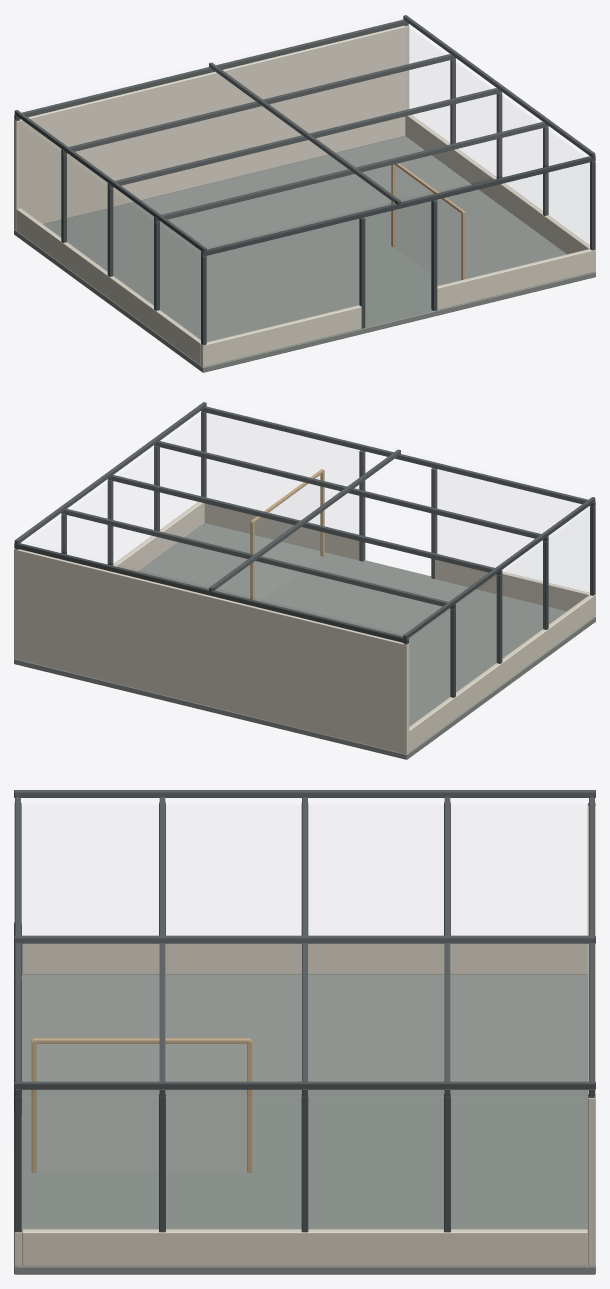
The model's file is coffee-roastery-and-cupping-room-coffee-roastery-and-c-d8196502__32176.glb.
The picture shows the model from 3 angles, top to bottom: view 1: azimuth 30°, elevation 25°; view 2: azimuth 150°, elevation 25°; view 3: azimuth 270°, elevation 25°; orthographic projection. The views are drawn at different scales.
Parts seen in each view (by area): view 1: coffee-roastery-and-cupping-room-roofed-coffee-roastery; view 2: coffee-roastery-and-cupping-room-roofed-coffee-roastery; view 3: coffee-roastery-and-cupping-room-roofed-coffee-roastery.
Part boxes in pixels (<box>): coffee-roastery-and-cupping-room-roofed-coffee-roastery: <box>14,15,595,372</box>; coffee-roastery-and-cupping-room-roofed-coffee-roastery: <box>14,402,595,759</box>; coffee-roastery-and-cupping-room-roofed-coffee-roastery: <box>14,790,595,1274</box>.
Size of the model in its own units: 12 by 3.65 by 10.
